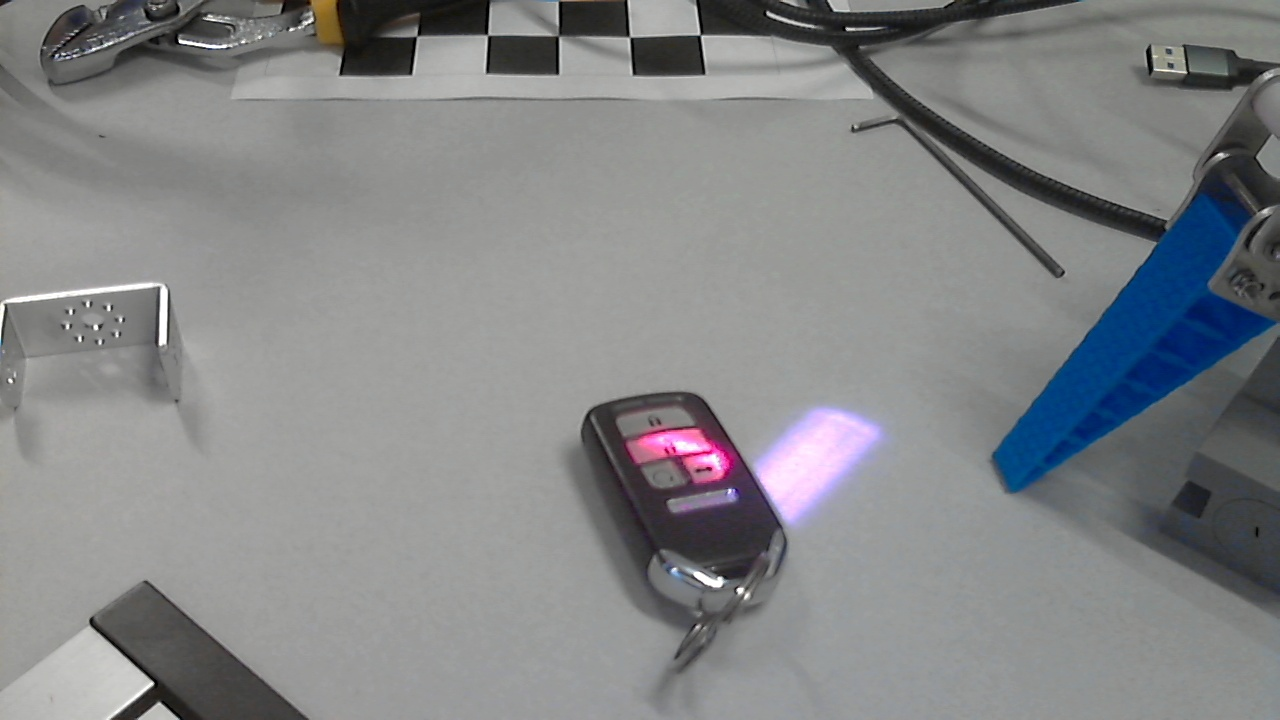Object car key fob with keyring - Material plastic - Pdfname u4lxlaYXiY3D: (602, 401, 755, 552)
